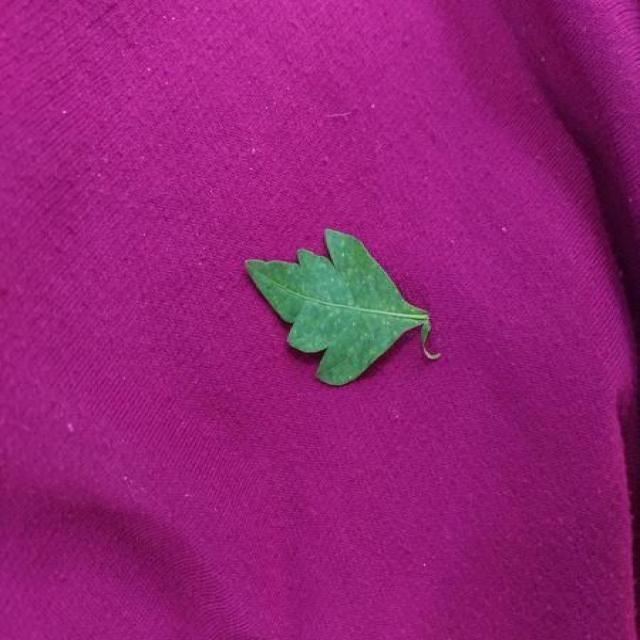balloon_Vine: (247, 230, 438, 385)
